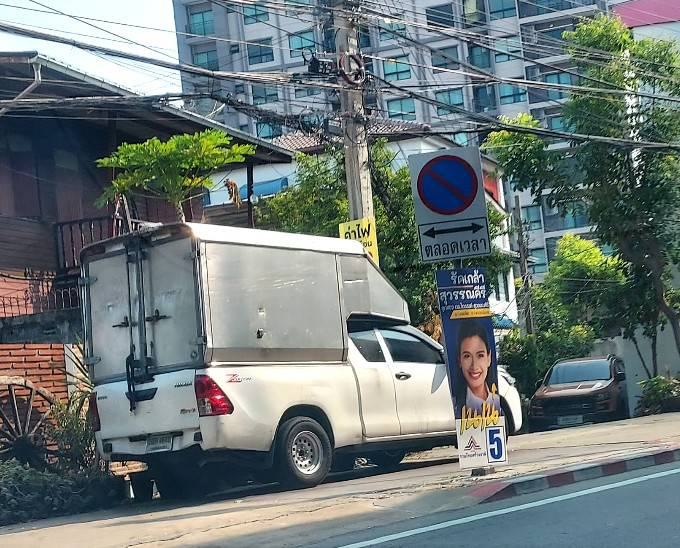Banner: (436, 268, 510, 469)
